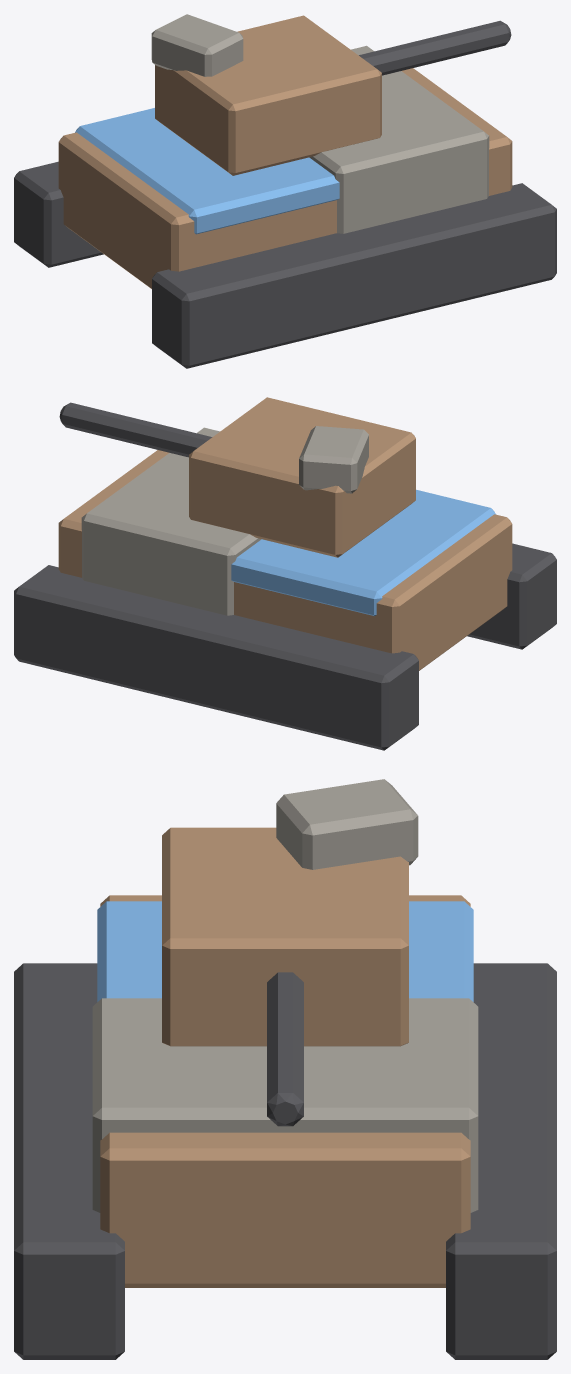
Rendered from marauder.glb.
The picture shows the model from 3 angles, top to bottom: view 1: azimuth 30°, elevation 25°; view 2: azimuth 150°, elevation 25°; view 3: azimuth 270°, elevation 25°; orthographic projection. The views are drawn at different scales.
Visible parts, largest first — view 1: Hull, Turret; view 2: Hull, Turret; view 3: Hull, Turret.
Boxes of the visible parts, x1,y1,x2,y2 form: Hull: (14, 45, 556, 368); Turret: (151, 14, 511, 175); Hull: (14, 427, 556, 750); Turret: (59, 397, 415, 557); Hull: (14, 895, 556, 1359); Turret: (162, 779, 418, 1126).
Bounding box in the file's own units: 2.4 × 1.31 × 1.76.
